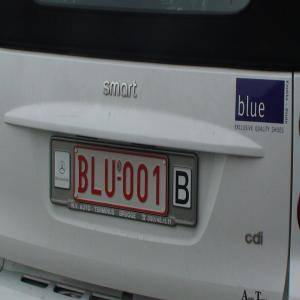Vehicle-registration-plate: (60, 138, 182, 223)
